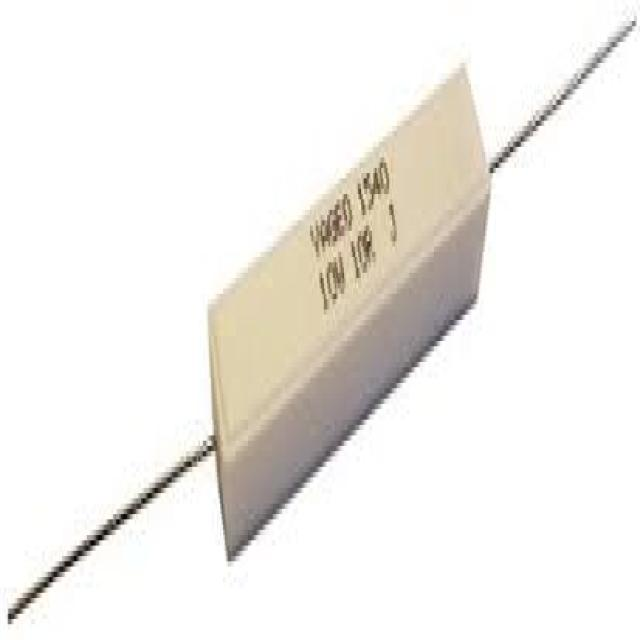Resistor: (207, 53, 489, 560)
